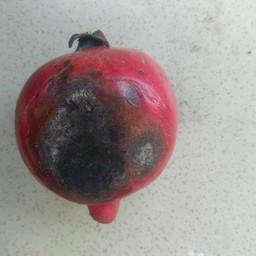Bad_pomegranate: (16, 28, 179, 226)
